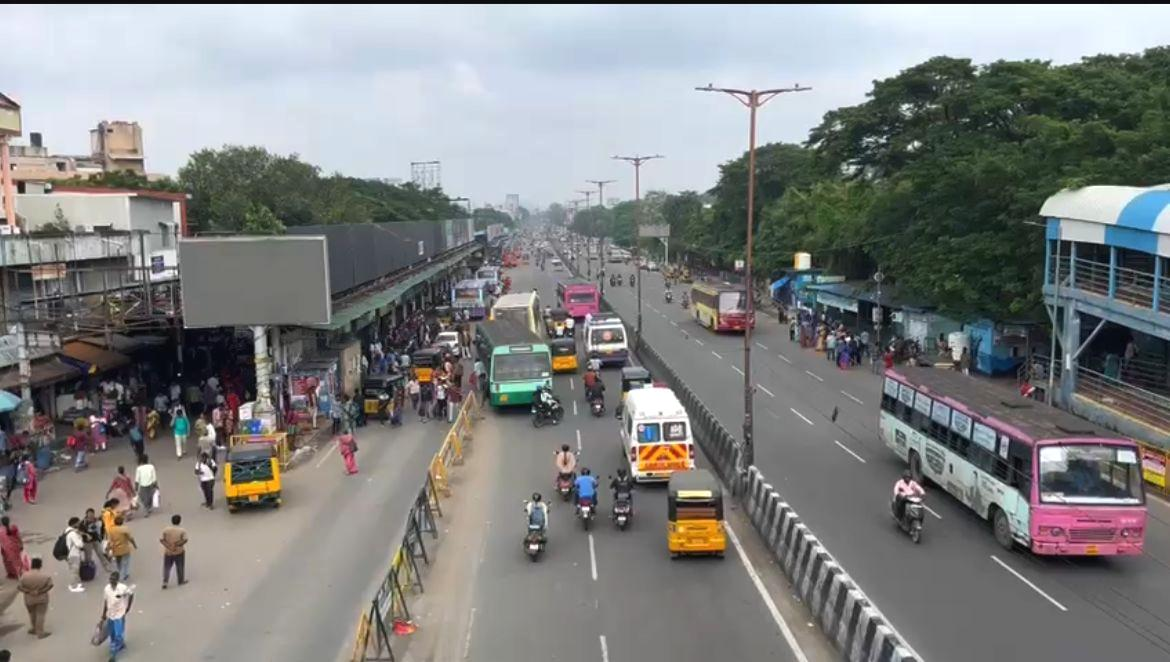ambulance: (620, 385, 697, 482)
